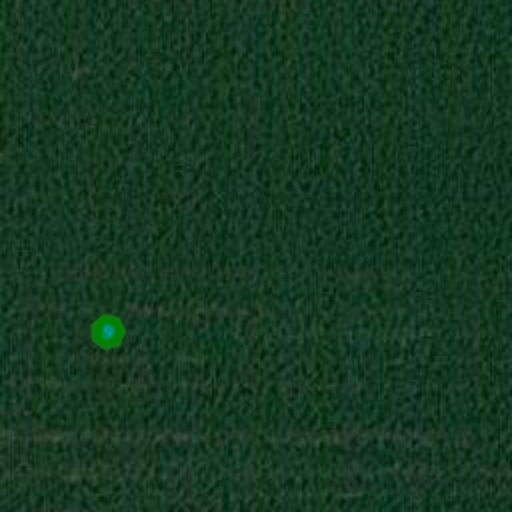heptagon: (84, 308, 132, 356)
